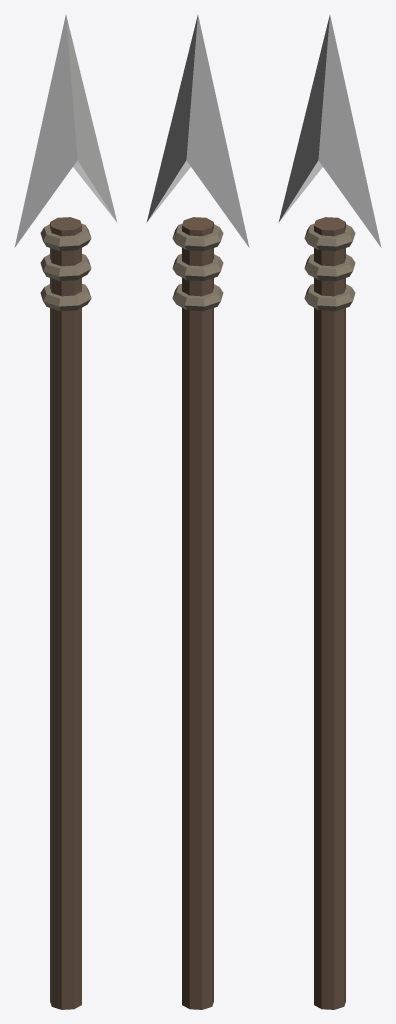
File: kit_spear.glb
3 views of the same model, side by side, from view 1: azimuth 30°, elevation 25°; view 2: azimuth 150°, elevation 25°; view 3: azimuth 330°, elevation 25° (orthographic).
Parts seen in each view (by area): view 1: Ash spear shaft, Leaf spearhead, Spear binding.002, Spear binding, Spear binding.001; view 2: Ash spear shaft, Leaf spearhead, Spear binding.002, Spear binding, Spear binding.001; view 3: Ash spear shaft, Leaf spearhead, Spear binding.002, Spear binding, Spear binding.001.
Boxes of the visible parts, x1=… form: Ash spear shaft: x1=50, y1=217, x2=81, y2=1009; Leaf spearhead: x1=14, y1=15, x2=117, y2=247; Spear binding.002: x1=40, y1=223, x2=91, y2=251; Spear binding: x1=40, y1=284, x2=91, y2=311; Spear binding.001: x1=40, y1=254, x2=91, y2=281; Ash spear shaft: x1=182, y1=217, x2=213, y2=1009; Leaf spearhead: x1=146, y1=15, x2=249, y2=247; Spear binding.002: x1=172, y1=223, x2=223, y2=251; Spear binding: x1=172, y1=284, x2=223, y2=311; Spear binding.001: x1=172, y1=254, x2=223, y2=281; Ash spear shaft: x1=314, y1=217, x2=345, y2=1009; Leaf spearhead: x1=278, y1=15, x2=381, y2=247; Spear binding.002: x1=304, y1=223, x2=355, y2=251; Spear binding: x1=304, y1=284, x2=355, y2=311; Spear binding.001: x1=304, y1=254, x2=355, y2=281.
Bounding box in the file's own units: 0.18 × 1.65 × 0.08.
